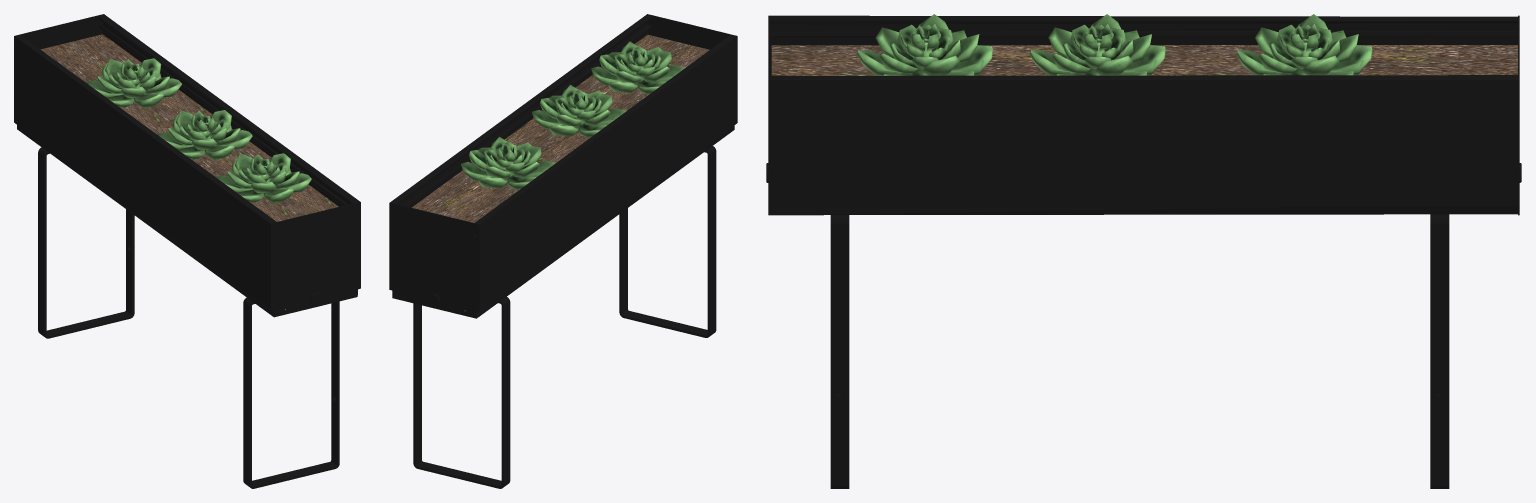
File: largo_floor_long_1.glb
3 renders of one model, left to right at view 1: azimuth 30°, elevation 25°; view 2: azimuth 150°, elevation 25°; view 3: azimuth 270°, elevation 25°, orthographic. The views are drawn at different scales.
Visible parts, largest first — view 1: ext, flat_cover_side_ext_7-4-24.001, Plane.001, ext_floor_longl_size, ext_floor_longl_size.001, succulent plant.005, succulent plant.003, succulent plant.004, flat_cover_side_ext_7-4-24; view 2: ext, flat_cover_side_ext_7-4-24, Plane.001, ext_floor_longl_size.001, ext_floor_longl_size, succulent plant.005, succulent plant.003, succulent plant.004, flat_cover_side_ext_7-4-24.001; view 3: ext, Plane.001, succulent plant.005, succulent plant.003, succulent plant.004, ext_floor_longl_size.001, ext_floor_longl_size.
Boxes of the visible parts, bbox=[...] form: ext: bbox=[14, 14, 359, 316]; flat_cover_side_ext_7-4-24.001: bbox=[270, 201, 360, 317]; Plane.001: bbox=[40, 34, 338, 221]; ext_floor_longl_size: bbox=[243, 297, 339, 488]; ext_floor_longl_size.001: bbox=[38, 147, 134, 338]; succulent plant.005: bbox=[85, 58, 181, 108]; succulent plant.003: bbox=[156, 110, 252, 160]; succulent plant.004: bbox=[216, 153, 311, 203]; flat_cover_side_ext_7-4-24: bbox=[14, 14, 104, 129]; ext: bbox=[390, 14, 737, 317]; flat_cover_side_ext_7-4-24: bbox=[389, 202, 480, 318]; Plane.001: bbox=[412, 34, 709, 235]; ext_floor_longl_size.001: bbox=[413, 297, 510, 488]; ext_floor_longl_size: bbox=[619, 146, 716, 337]; succulent plant.005: bbox=[461, 137, 555, 189]; succulent plant.003: bbox=[532, 85, 626, 137]; succulent plant.004: bbox=[591, 41, 685, 94]; flat_cover_side_ext_7-4-24.001: bbox=[647, 14, 737, 129]; ext: bbox=[770, 15, 1517, 215]; Plane.001: bbox=[771, 45, 1517, 75]; succulent plant.005: bbox=[1236, 14, 1372, 75]; succulent plant.003: bbox=[1029, 14, 1165, 75]; succulent plant.004: bbox=[857, 14, 993, 75]; ext_floor_longl_size.001: bbox=[1430, 214, 1449, 488]; ext_floor_longl_size: bbox=[830, 215, 849, 488].
Size of the model in its own units: 2.03 by 6.37 by 10.1.
3 materials, 2 textured.
